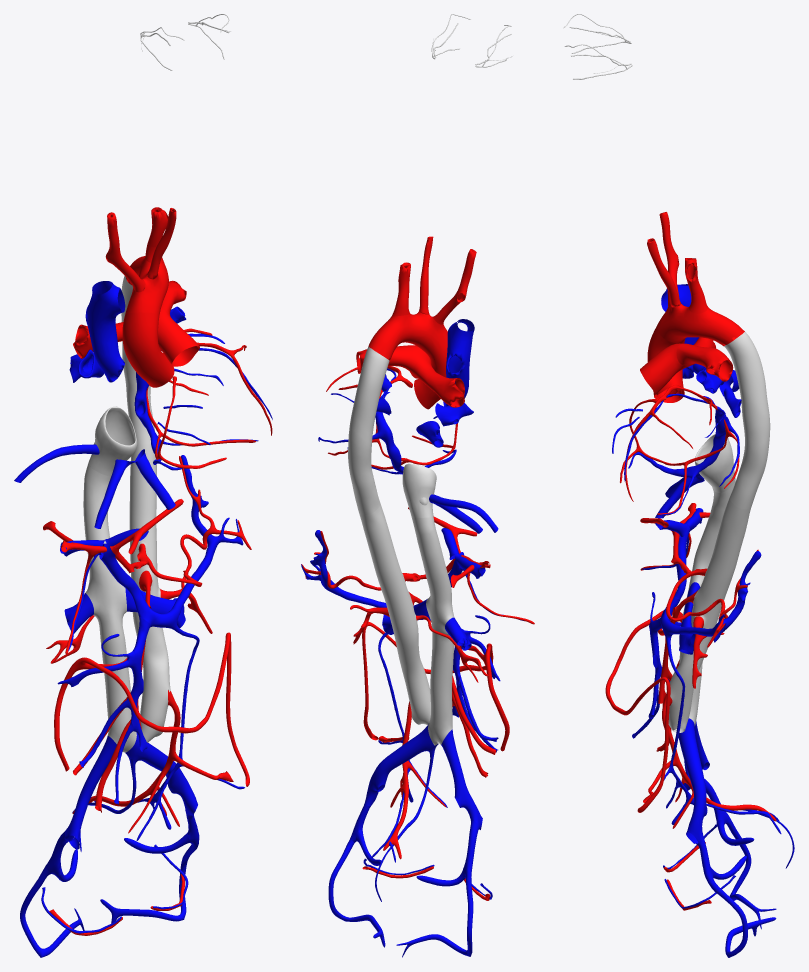
File: vh_f_blood_vasculature-40.fbx
3 renders of one model, left to right at view 1: azimuth 30°, elevation 25°; view 2: azimuth 150°, elevation 25°; view 3: azimuth 270°, elevation 25°, orthographic. The views are drawn at different scales.
Visible parts, largest first — view 1: VH_F_inferior_vena_cava_b, VH_F_descending_aorta_b, VH_F_superior_vena_cava, VH_F_marginal_artery_of_Drummond, VH_F_ascending_aorta, VH_F_inferior_vena_cava_a, VH_F_splenic_vein, VH_F_aortic_arch, VH_F_left_common_iliac_vein, VH_F_pulmonary_trunk, VH_F_right_common_iliac_vein, VH_F_descending_aorta_a (+15 smaller); view 2: VH_F_descending_aorta_b, VH_F_inferior_vena_cava_b, VH_F_descending_aorta_a, VH_F_aortic_arch, VH_F_inferior_vena_cava_a, VH_F_superior_vena_cava, VH_F_left_common_iliac_vein, VH_F_marginal_artery_of_Drummond, VH_F_pulmonary_artery_R, VH_F_right_common_iliac_vein, VH_F_splenic_vein, VH_F_ascending_aorta (+6 smaller); view 3: VH_F_descending_aorta_b, VH_F_descending_aorta_a, VH_F_aortic_arch, VH_F_inferior_vena_cava_b, VH_F_left_common_iliac_vein, VH_F_marginal_artery_of_Drummond, VH_F_splenic_vein, VH_F_pulmonary_artery_L, VH_F_inferior_vena_cava_a, VH_F_pulmonary_trunk, VH_F_ascending_aorta, VH_F_splenic_artery (+11 smaller).
Boxes of the visible parts, box(x1,y1,x2,y2) form: VH_F_inferior_vena_cava_b: box(83, 463, 136, 752); VH_F_descending_aorta_b: box(129, 443, 170, 742); VH_F_superior_vena_cava: box(85, 281, 125, 382); VH_F_marginal_artery_of_Drummond: box(54, 632, 249, 786); VH_F_ascending_aorta: box(122, 312, 174, 387); VH_F_inferior_vena_cava_a: box(88, 406, 137, 476); VH_F_splenic_vein: box(140, 455, 243, 629); VH_F_aortic_arch: box(125, 256, 168, 315); VH_F_left_common_iliac_vein: box(125, 733, 197, 815); VH_F_pulmonary_trunk: box(158, 309, 199, 366); VH_F_right_common_iliac_vein: box(65, 736, 116, 849); VH_F_descending_aorta_a: box(121, 276, 154, 444); VH_F_descending_aorta_b: box(359, 503, 430, 725); VH_F_inferior_vena_cava_b: box(412, 516, 454, 745); VH_F_descending_aorta_a: box(348, 347, 389, 514); VH_F_aortic_arch: box(368, 312, 447, 360); VH_F_inferior_vena_cava_a: box(402, 463, 436, 517); VH_F_superior_vena_cava: box(443, 319, 474, 406); VH_F_left_common_iliac_vein: box(364, 724, 434, 805); VH_F_marginal_artery_of_Drummond: box(362, 621, 509, 751); VH_F_pulmonary_artery_R: box(413, 356, 464, 407); VH_F_right_common_iliac_vein: box(441, 729, 482, 829); VH_F_splenic_vein: box(301, 530, 386, 607); VH_F_ascending_aorta: box(414, 347, 447, 409); VH_F_descending_aorta_b: box(668, 497, 751, 732); VH_F_descending_aorta_a: box(724, 332, 770, 509); VH_F_aortic_arch: box(657, 304, 744, 346); VH_F_inferior_vena_cava_b: box(679, 479, 735, 725); VH_F_left_common_iliac_vein: box(678, 718, 707, 843); VH_F_marginal_artery_of_Drummond: box(605, 610, 682, 812); VH_F_splenic_vein: box(660, 551, 761, 642); VH_F_pulmonary_artery_L: box(676, 343, 733, 381); VH_F_inferior_vena_cava_a: box(695, 434, 735, 492); VH_F_pulmonary_trunk: box(640, 343, 694, 394); VH_F_ascending_aorta: box(647, 323, 685, 402); VH_F_splenic_artery: box(666, 549, 758, 647).
Size of the model in its own units: 19.28 by 79.9 by 18.48.
